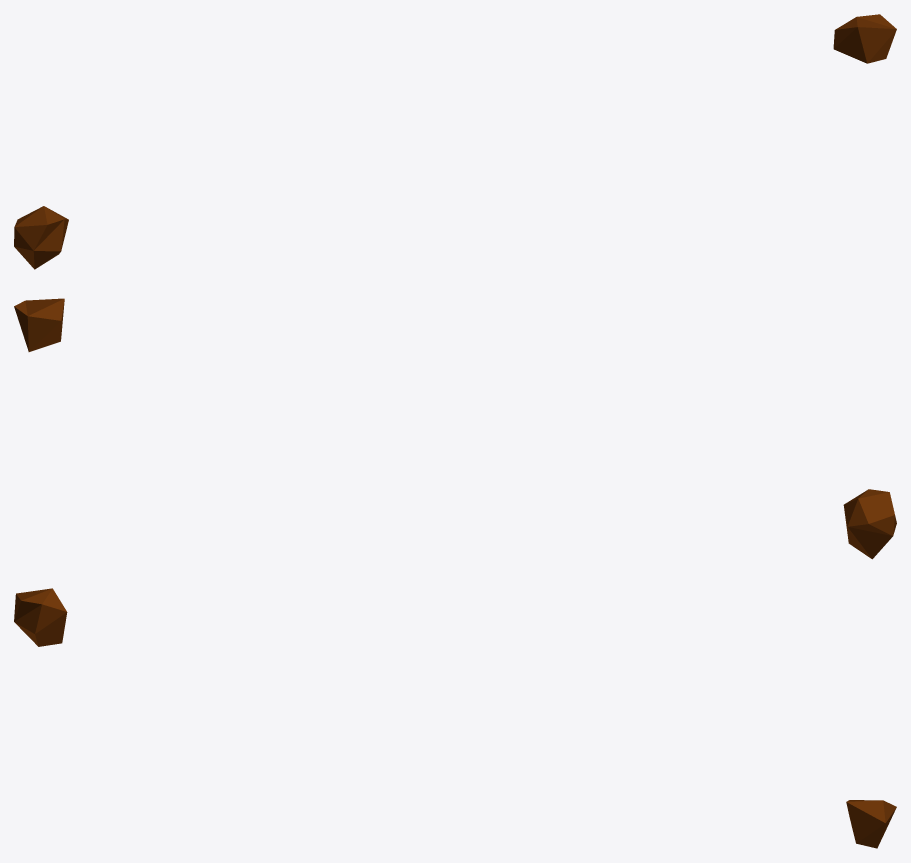
File: 66-SG-suprageniculate thalamic nucleus-('0.4980', '0.2275', '0.0000').obj
3 renders of one model, top to bottom at view 1: azimuth 30°, elevation 25°; view 2: azimuth 150°, elevation 25°; view 3: azimuth 330°, elevation 25°, orthographic.
Bounding box in the file's own units: 98.76 × 6.41 × 4.98.
